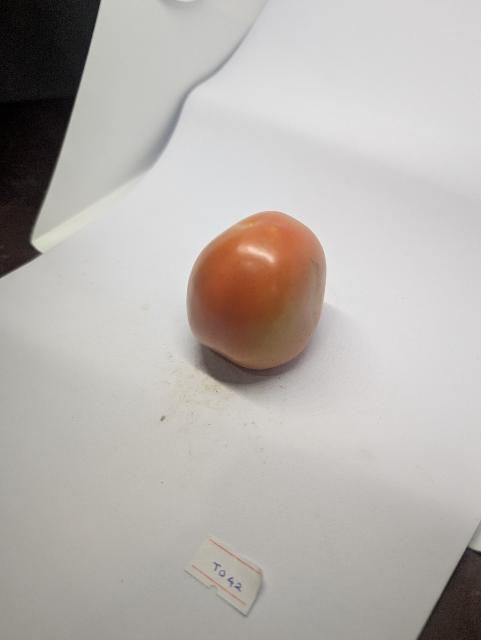turning: (174, 204, 344, 379)
